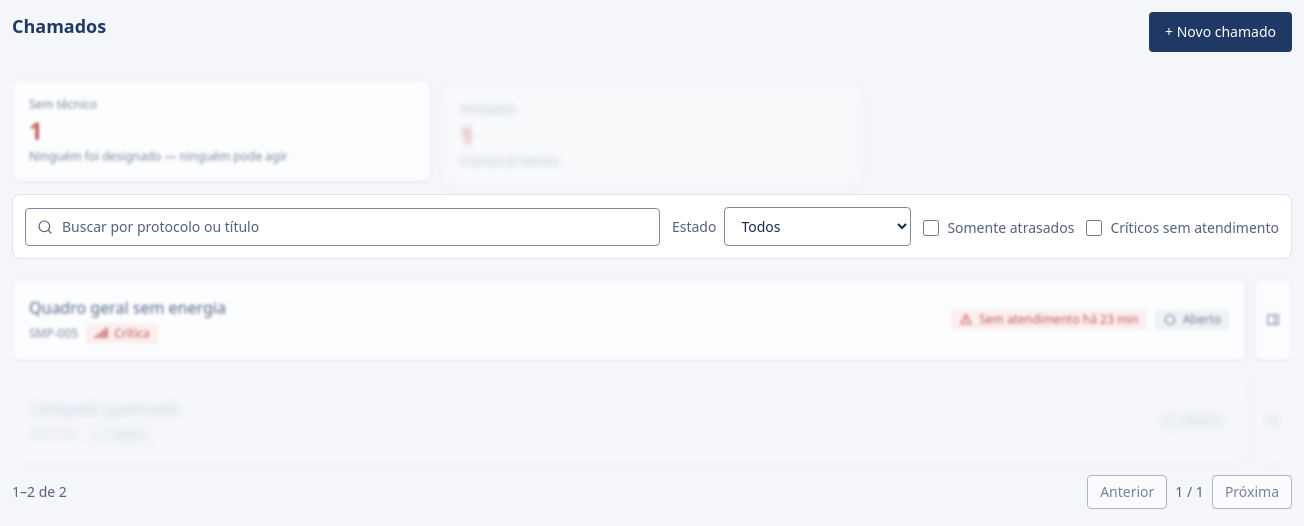
Test case: Painel da gestão › a caixa liga e desliga o recorte, e "Limpar filtros" o desfaz
Click the checkbox labelled "Críticos sem atendimento".
click(1094, 228)  # box [1086,220,1102,236]
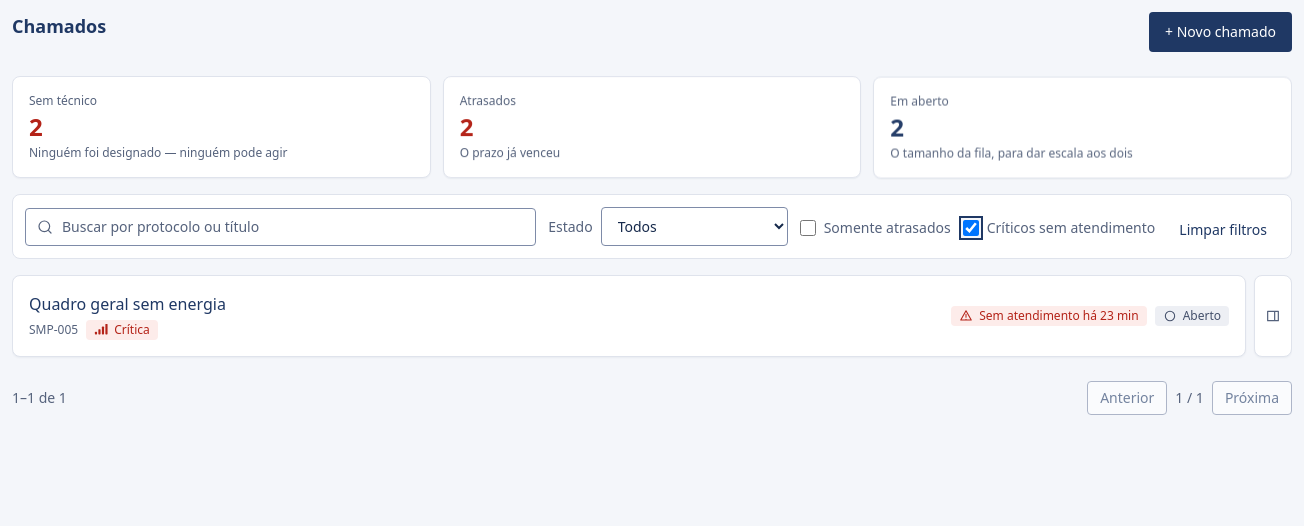
Expected: the text "Quadro geral sem energia" is shown, [29,292,226,316]
Now the link "Lâmpada queimada" is gone
Click the button "Limpar filtros".
click(1223, 230)  # box [1167,214,1279,246]
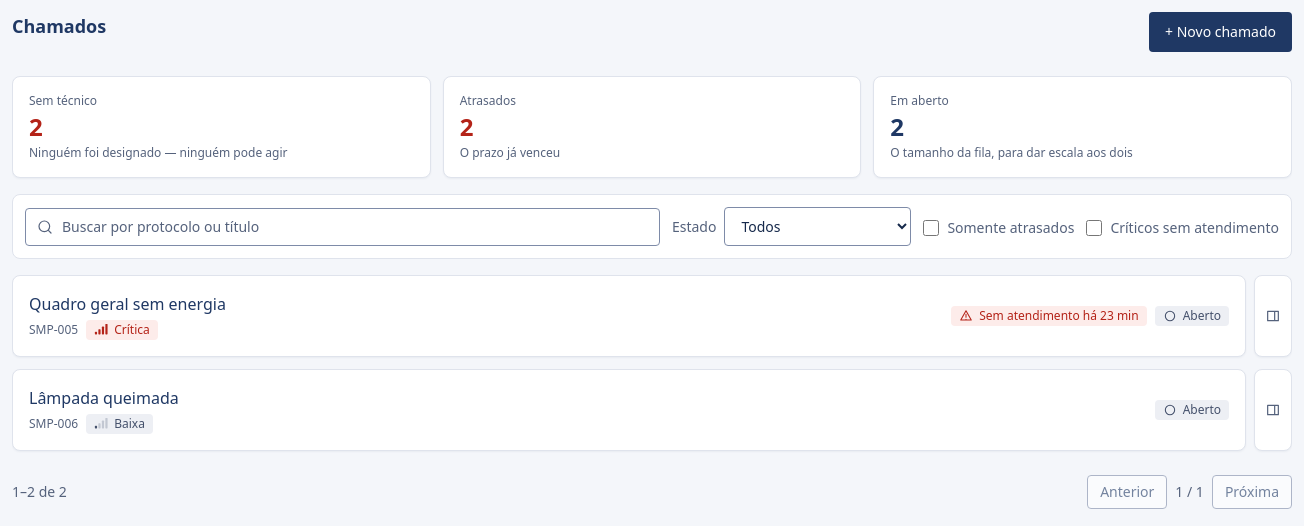
Now the checkbox labelled "Críticos sem atendimento" is not checked, box [1086,220,1102,236]
Now the text "Lâmpada queimada" is shown, box [29,386,179,410]
